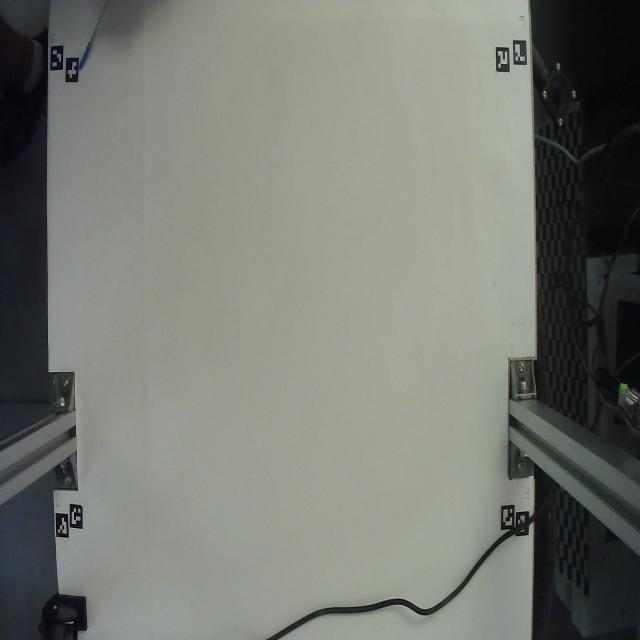Pres: (67, 0, 122, 80)
